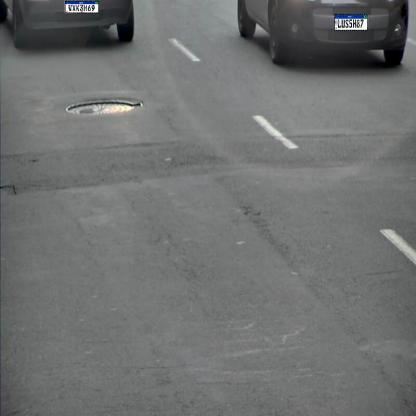PlacaM: (334, 14, 368, 30), (65, 1, 99, 13)
